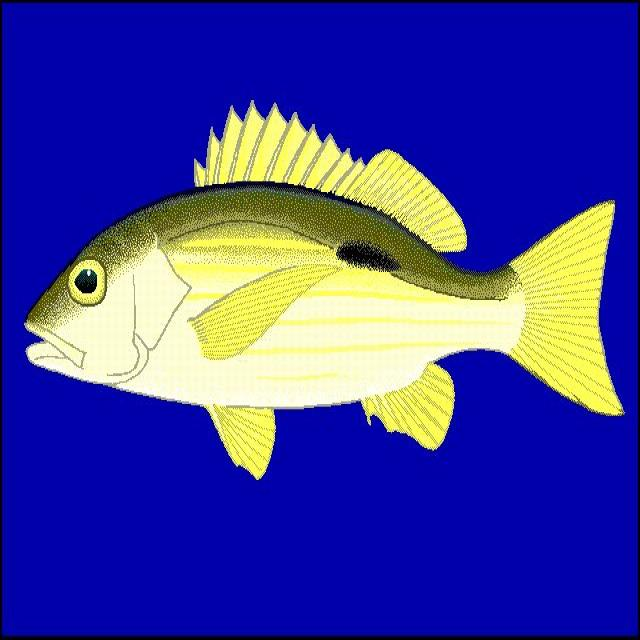ikan: (23, 99, 624, 478)
